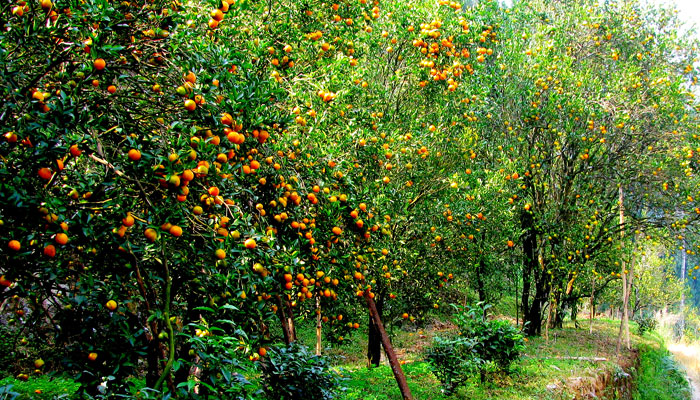orange: (105, 300, 120, 317), (37, 168, 53, 183), (42, 245, 57, 260), (212, 247, 227, 262), (55, 232, 69, 248), (128, 148, 142, 163), (106, 83, 120, 98), (7, 238, 21, 253), (122, 214, 136, 228), (144, 228, 156, 244), (94, 57, 107, 71), (22, 136, 35, 150), (171, 225, 183, 240), (183, 70, 197, 82), (70, 144, 82, 157), (4, 131, 18, 142), (185, 99, 197, 111), (32, 91, 44, 103), (183, 81, 195, 93), (183, 169, 195, 181), (1, 275, 12, 288), (221, 112, 232, 124), (54, 159, 65, 171), (12, 6, 24, 17), (212, 9, 224, 20), (218, 228, 229, 240), (169, 153, 181, 164), (198, 166, 210, 177), (197, 159, 210, 169), (161, 221, 172, 232), (88, 351, 99, 362), (221, 216, 232, 227), (230, 228, 241, 239), (187, 149, 198, 160), (169, 176, 180, 187), (246, 240, 256, 251), (215, 94, 225, 105), (48, 10, 59, 20), (190, 136, 200, 147), (228, 132, 239, 142), (69, 189, 79, 200), (210, 186, 221, 196), (91, 78, 100, 90), (180, 178, 192, 187), (160, 28, 170, 38), (211, 136, 221, 146), (233, 122, 243, 132), (117, 244, 127, 254), (34, 358, 44, 368), (193, 205, 203, 215), (214, 195, 224, 205), (154, 163, 164, 173), (218, 153, 228, 163), (227, 63, 237, 73), (118, 226, 127, 237), (241, 165, 252, 174), (332, 226, 343, 235), (42, 90, 52, 99), (267, 45, 277, 54), (284, 44, 294, 53), (219, 2, 229, 11), (237, 134, 246, 144), (224, 127, 234, 136), (60, 221, 69, 231), (15, 307, 24, 317), (239, 290, 249, 299), (225, 198, 235, 207), (179, 185, 189, 194), (178, 193, 188, 202), (250, 160, 260, 169), (277, 76, 286, 85), (209, 19, 218, 28), (258, 347, 267, 356), (251, 352, 260, 361), (284, 273, 293, 282), (259, 177, 268, 186), (254, 265, 264, 273), (152, 83, 162, 91), (259, 130, 269, 138), (262, 292, 272, 300), (199, 193, 209, 201), (253, 37, 262, 45), (306, 8, 315, 16), (311, 32, 319, 41), (316, 29, 324, 38), (251, 128, 259, 137), (258, 136, 266, 145), (297, 273, 305, 282), (206, 197, 214, 206), (213, 160, 222, 168), (220, 171, 229, 179), (228, 172, 237, 180), (266, 155, 274, 164), (272, 181, 281, 189), (290, 192, 299, 200), (274, 215, 283, 223), (382, 176, 391, 184), (354, 271, 362, 280), (322, 43, 331, 51), (324, 288, 331, 298), (20, 337, 28, 345), (238, 341, 246, 349), (285, 281, 293, 289), (160, 175, 168, 183), (250, 167, 258, 175), (274, 162, 282, 170), (313, 184, 321, 192), (259, 208, 267, 216), (323, 92, 331, 100), (329, 195, 337, 203), (339, 193, 347, 201), (356, 219, 364, 227), (389, 292, 397, 300), (507, 240, 515, 248), (448, 84, 456, 92), (479, 46, 487, 54), (271, 70, 280, 77), (255, 203, 264, 210), (212, 79, 220, 86), (68, 80, 76, 87), (158, 90, 165, 98), (35, 388, 43, 395), (271, 304, 278, 312), (307, 291, 314, 299), (302, 279, 310, 286), (214, 167, 221, 175), (278, 175, 286, 182), (308, 193, 316, 200), (270, 200, 277, 208), (292, 221, 300, 228), (359, 138, 367, 145), (300, 119, 308, 126), (351, 210, 358, 218), (359, 203, 367, 210), (332, 278, 339, 286), (384, 213, 391, 221), (450, 181, 458, 188), (407, 25, 415, 32), (334, 15, 342, 22), (346, 18, 354, 25), (512, 173, 520, 180), (357, 254, 364, 262), (477, 55, 484, 63), (56, 89, 63, 96), (272, 58, 279, 65), (244, 26, 251, 33), (302, 287, 309, 294), (256, 295, 263, 302), (280, 180, 287, 187), (286, 183, 293, 190), (311, 197, 318, 204), (281, 213, 288, 220), (300, 223, 307, 230), (303, 217, 310, 224), (306, 232, 313, 239), (309, 237, 316, 244), (318, 90, 325, 97), (346, 103, 353, 110), (371, 136, 378, 143), (296, 116, 303, 123), (293, 107, 300, 114), (386, 151, 393, 158), (429, 124, 436, 131), (324, 276, 331, 283), (332, 293, 339, 300), (402, 312, 409, 319), (382, 248, 389, 255), (468, 234, 475, 241), (481, 215, 488, 222), (347, 41, 354, 48), (386, 46, 393, 53), (366, 26, 373, 33), (419, 80, 426, 87), (402, 270, 409, 277), (372, 225, 379, 232), (364, 231, 371, 238), (487, 48, 494, 55), (317, 270, 323, 278), (624, 268, 632, 274), (283, 56, 290, 62), (289, 61, 295, 68), (291, 301, 297, 308), (362, 81, 368, 88), (350, 59, 356, 66), (339, 110, 346, 116), (386, 163, 393, 169), (383, 143, 390, 149), (406, 133, 413, 139), (354, 322, 360, 329), (347, 322, 353, 329), (322, 315, 328, 322), (329, 289, 335, 296), (369, 292, 375, 299), (331, 257, 337, 264), (430, 226, 436, 233), (477, 212, 483, 219), (406, 180, 412, 187), (406, 162, 412, 169), (373, 6, 379, 13), (464, 97, 470, 104), (456, 3, 462, 10), (450, 2, 456, 9), (480, 36, 486, 43), (524, 204, 530, 211), (508, 198, 514, 205), (607, 236, 613, 243), (310, 278, 316, 284), (310, 217, 316, 223), (310, 223, 316, 229), (379, 132, 385, 138), (421, 146, 427, 152), (424, 150, 430, 156), (433, 303, 439, 309), (435, 236, 441, 242), (447, 216, 453, 222), (466, 168, 472, 174), (382, 31, 388, 37), (467, 116, 473, 122), (497, 145, 503, 151), (510, 146, 516, 152), (471, 154, 477, 160), (451, 120, 457, 126), (385, 273, 391, 279), (382, 264, 388, 270), (382, 229, 388, 235), (526, 49, 532, 55), (522, 33, 528, 39), (575, 193, 581, 199), (613, 260, 619, 266), (598, 275, 604, 281), (505, 174, 510, 181), (359, 76, 364, 82), (378, 112, 383, 118), (309, 110, 315, 115), (402, 147, 407, 153), (436, 151, 441, 157), (338, 314, 343, 320), (339, 335, 344, 341), (392, 37, 397, 43), (374, 14, 380, 19), (472, 95, 478, 100), (473, 116, 478, 122), (504, 119, 509, 125), (448, 273, 453, 279), (396, 264, 401, 270), (463, 25, 469, 30), (491, 32, 497, 37), (513, 194, 519, 199), (584, 153, 589, 159), (585, 234, 590, 240), (585, 254, 590, 260), (354, 79, 359, 84), (371, 112, 376, 117), (416, 148, 421, 153), (332, 315, 337, 320), (447, 210, 452, 215), (508, 126, 513, 131), (469, 149, 474, 154), (440, 282, 445, 287), (487, 25, 492, 30), (483, 31, 488, 36), (610, 271, 615, 276), (616, 273, 621, 278), (421, 155, 426, 159), (438, 271, 442, 276), (594, 221, 598, 225), (548, 235, 551, 238)
